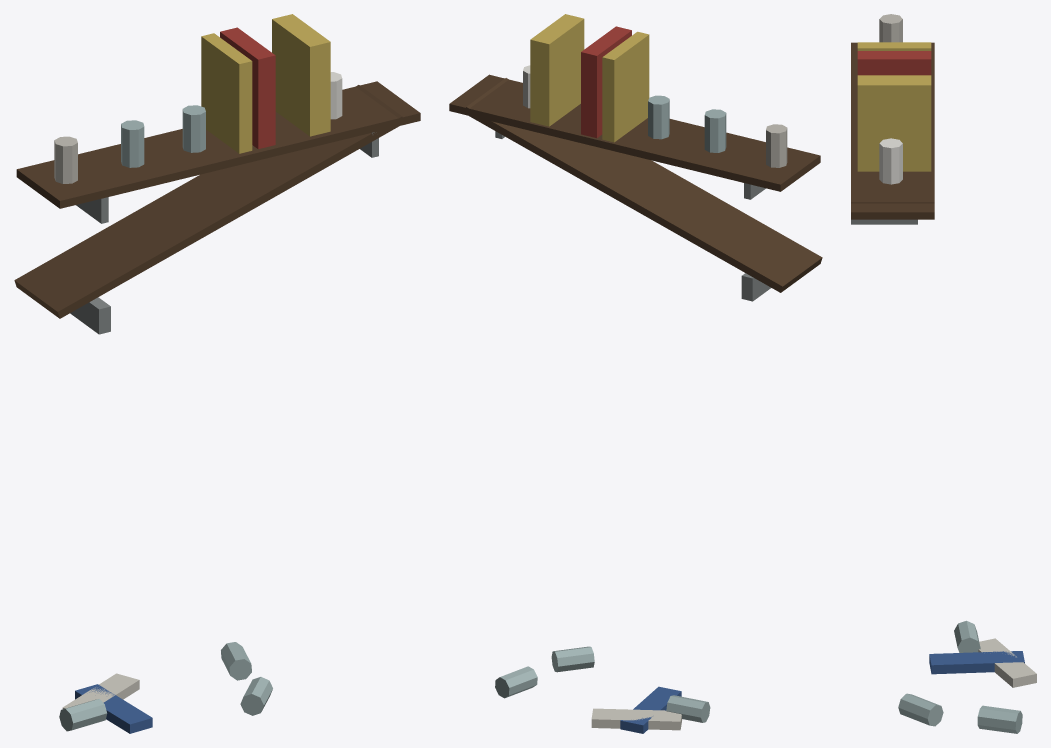
File: wall_shelf_broken.fbx
3 renders of one model, left to right at view 1: azimuth 30°, elevation 25°; view 2: azimuth 150°, elevation 25°; view 3: azimuth 270°, elevation 25°, orthographic. The views are drawn at different scales.
Visible parts, largest first — view 1: wall_shelf_broken; view 2: wall_shelf_broken; view 3: wall_shelf_broken.
Part boxes in pixels (left/top/right/bottom): wall_shelf_broken: left=14, top=14, right=420, bottom=733; wall_shelf_broken: left=449, top=14, right=822, bottom=733; wall_shelf_broken: left=851, top=14, right=1036, bottom=733.
Size of the model in its own units: 1.21 by 2.16 by 0.5557.
